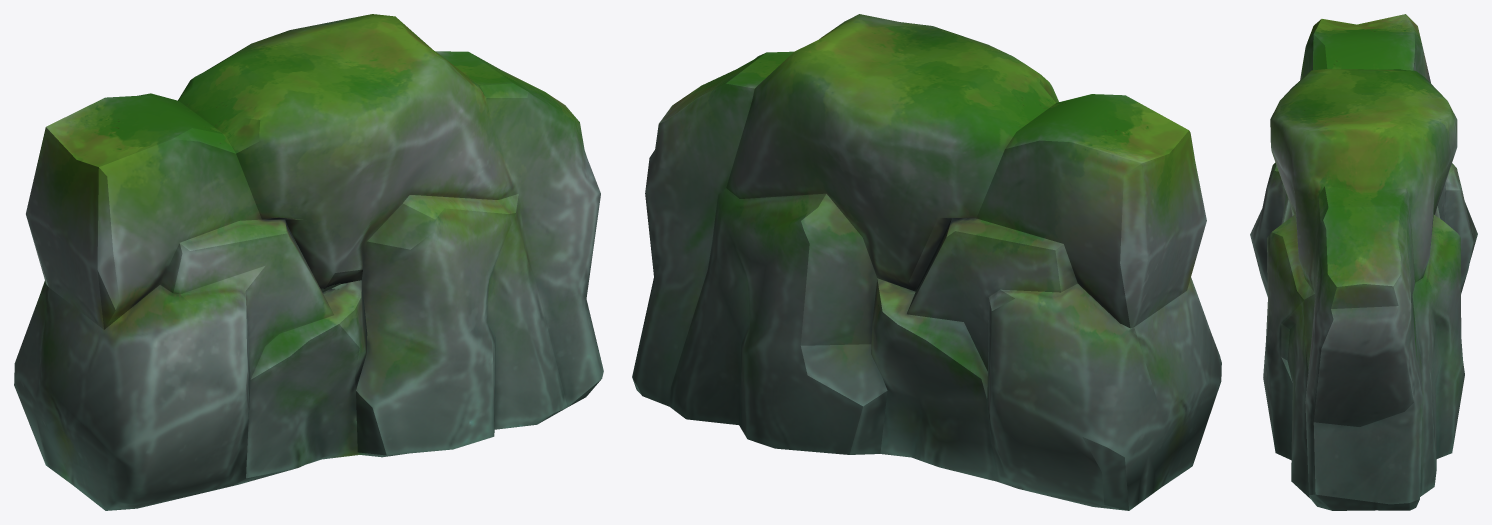
File: Prop_Cliff_1.fbx
3 views of the same model, side by side, from view 1: azimuth 30°, elevation 25°; view 2: azimuth 150°, elevation 25°; view 3: azimuth 270°, elevation 25° (orthographic). The views are drawn at different scales.
Parts seen in each view (by area): view 1: brickbox; view 2: brickbox; view 3: brickbox.
Boxes of the visible parts, <box> form: brickbox: <box>14,14,603,510</box>; brickbox: <box>632,14,1221,510</box>; brickbox: <box>1250,14,1477,510</box>.
Size of the model in its own units: 358 by 248 by 160.
Materials: 1 (1 with a texture image).
